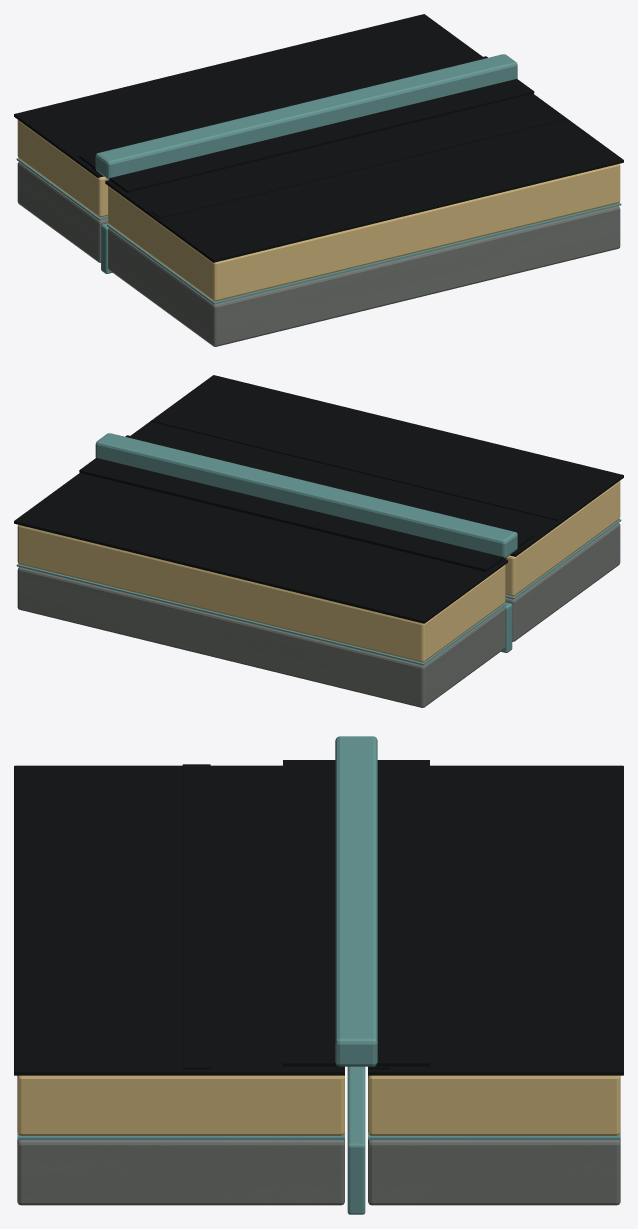
File: modell.glb
The picture shows the model from 3 angles, top to bottom: view 1: azimuth 30°, elevation 25°; view 2: azimuth 150°, elevation 25°; view 3: azimuth 270°, elevation 25°; orthographic projection. The views are drawn at different scales.
Parts seen in each view (by area): view 1: f09-abdichtung_deckung, f09-untergrund_tragwerk, f09-daemmung_daemmung, f09-fugenprofil_deckung, f09-naht_deckung, f09-luftdichtheit_luftdichtheit; view 2: f09-abdichtung_deckung, f09-untergrund_tragwerk, f09-daemmung_daemmung, f09-fugenprofil_deckung, f09-naht_deckung, f09-luftdichtheit_luftdichtheit; view 3: f09-abdichtung_deckung, f09-untergrund_tragwerk, f09-daemmung_daemmung, f09-fugenprofil_deckung, f09-naht_deckung, f09-bauwerksfuge_tragwerk, f09-luftdichtheit_luftdichtheit.
Part boxes in pixels (x1,y1,x2,y2): f09-abdichtung_deckung: (14, 14, 623, 262); f09-untergrund_tragwerk: (17, 162, 620, 346); f09-daemmung_daemmung: (17, 120, 620, 301); f09-fugenprofil_deckung: (95, 54, 517, 179); f09-naht_deckung: (92, 112, 566, 218); f09-luftdichtheit_luftdichtheit: (16, 158, 621, 304); f09-abdichtung_deckung: (14, 375, 623, 623); f09-untergrund_tragwerk: (17, 523, 620, 707); f09-daemmung_daemmung: (17, 481, 620, 662); f09-fugenprofil_deckung: (95, 433, 517, 558); f09-naht_deckung: (151, 414, 566, 563); f09-luftdichtheit_luftdichtheit: (16, 519, 621, 665); f09-abdichtung_deckung: (14, 760, 623, 1075); f09-untergrund_tragwerk: (17, 1140, 620, 1205); f09-daemmung_daemmung: (17, 1075, 620, 1135); f09-fugenprofil_deckung: (335, 736, 377, 1066); f09-naht_deckung: (182, 764, 389, 1069); f09-bauwerksfuge_tragwerk: (347, 1066, 365, 1214); f09-luftdichtheit_luftdichtheit: (17, 1133, 620, 1139).
Bounding box in the file's own units: 2.22 × 0.5975 × 1.87.
4 materials, 1 textured.
